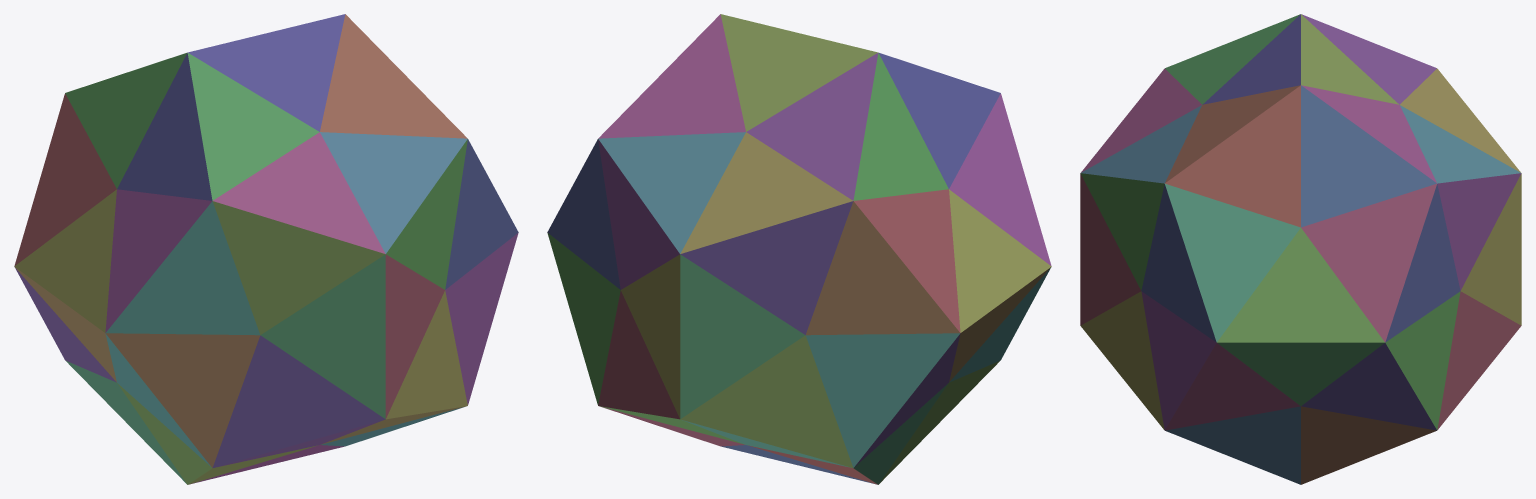
File: dodecahedronC.obj
The picture shows the model from 3 angles, left to right: view 1: azimuth 30°, elevation 25°; view 2: azimuth 150°, elevation 25°; view 3: azimuth 270°, elevation 25°; orthographic projection. The views are drawn at different scales.
Size of the model in its own units: 8.47 by 8.47 by 8.47.
